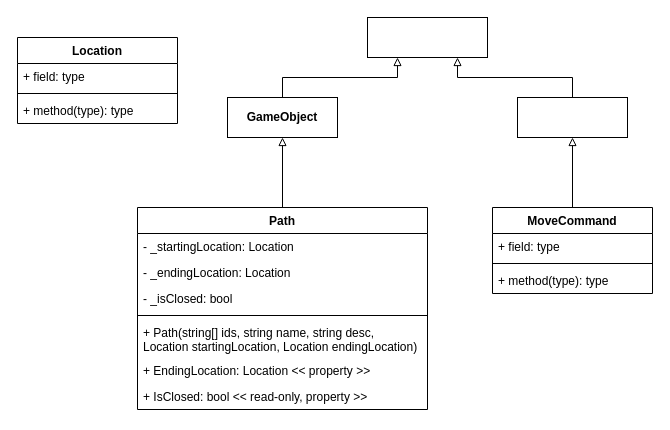
The diagram is 670 pixels wide and 430 high, and some of its shapes have lost their labels. The shapes that lost their labels are listed below. From the top down, each one's centre as x and y in pixels, then its label:
the point at 427,37: IdentifiableObject
the point at 572,117: Command
